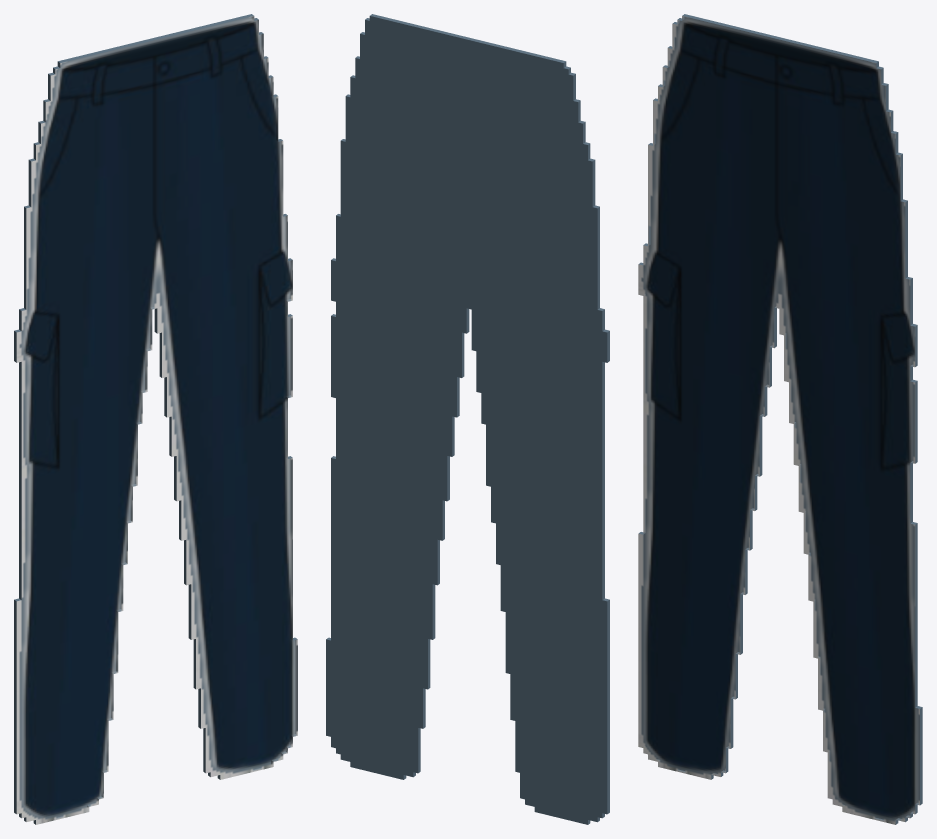
3 renders of one model, left to right at view 1: azimuth 30°, elevation 25°; view 2: azimuth 150°, elevation 25°; view 3: azimuth 330°, elevation 25°, orthographic.
Parts seen in each view (by area): view 1: item_mesh; view 2: item_mesh; view 3: item_mesh.
Part boxes in pixels (x1,y1,x2,y2): item_mesh: [14, 14, 297, 824]; item_mesh: [326, 14, 609, 824]; item_mesh: [638, 14, 922, 824].
Bounding box in the file's own units: 0.3893 × 1 × 0.006.
Materials: 2 (1 with a texture image).
